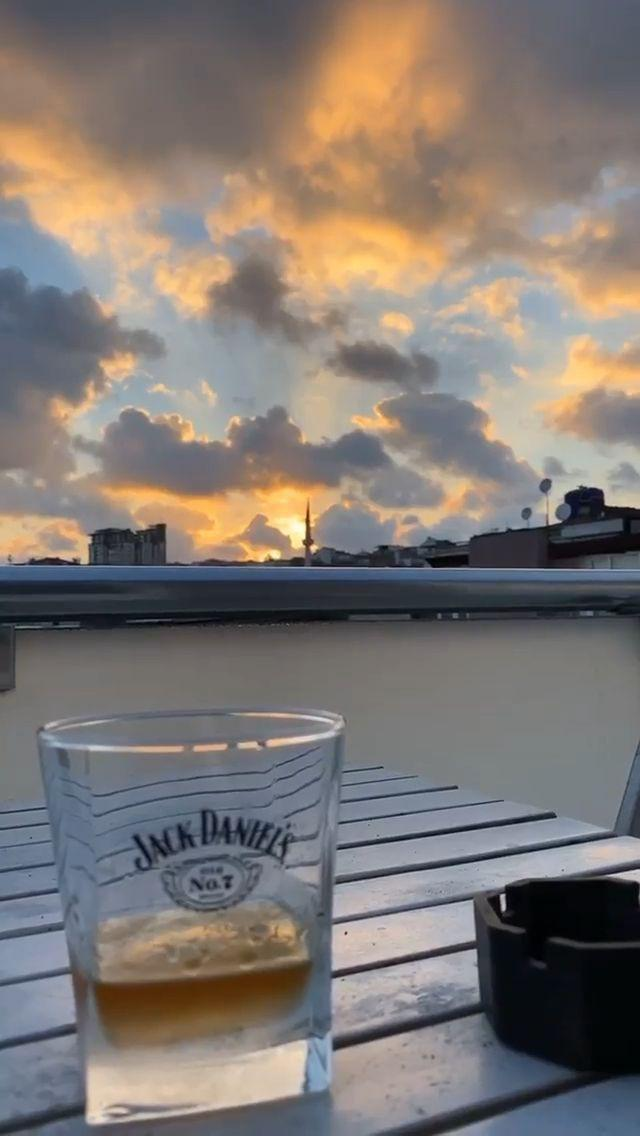glass-normal: (34, 702, 348, 1135)
